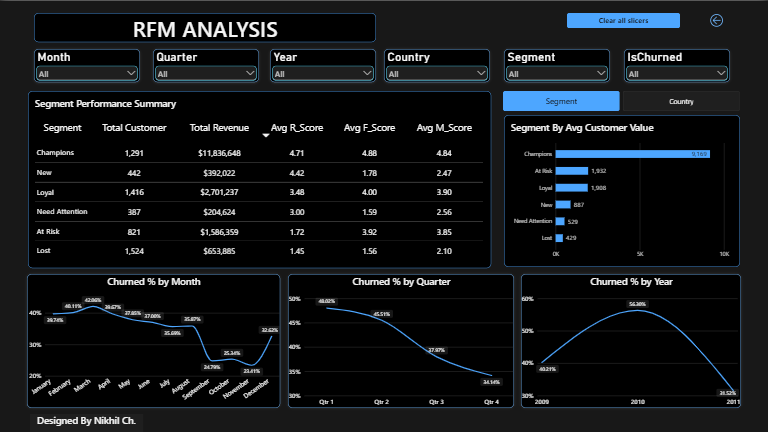

What the dashboard file says about the page in this screenshot:
{"tool":"powerbi","page":{"name":"RFM Analysis","canvas":[1920,1080],"ordinal":1},"visuals":[{"type":"slicer","fields":{"Values":["Sheet1.InvoiceDate.Variation.Date Hierarchy.Month"]},"box":[85,120,265,82.5],"z":0,"group":"g3"},{"type":"pivotTable","title":"Segment Performance Summary","fields":{"Rows":["Sheet1.Segment"],"Values":["Sheet1.Total Customer","Sheet1.Total Revenue","Avg(Sheet1.R_Score)","Avg(Sheet1.F_Score)","Avg(Sheet1.M_Score)"]},"box":[69.4,225,1157.5,442.5],"z":0,"group":"g2"},{"type":"lineChart","fields":{"Category":["Sheet1.InvoiceDate.Variation.Date Hierarchy.Month"],"Y":["Sheet1.Churned %"]},"box":[67.5,682.5,632.5,335],"z":0,"group":"g1"},{"type":"slicer","fields":{"Values":["Sheet1.InvoiceDate.Variation.Date Hierarchy.Quarter"]},"box":[382.5,120,265,82.5],"z":1000,"group":"g3"},{"type":"barChart","title":"Segment By Avg Customer Value","fields":{"Category":["Sheet1.Segment"],"Y":["Sheet1.Avg Customer Value"]},"box":[1259.4,285,590,380],"z":1000,"group":"g2"},{"type":"group","id":"g1","title":"Revenue","box":[67.5,682.5,1785,335],"z":1000},{"type":"lineChart","fields":{"Category":["Sheet1.InvoiceDate.Variation.Date Hierarchy.Quarter"],"Y":["Sheet1.Churned %"]},"box":[720,682.5,565,335],"z":1000,"group":"g1"},{"type":"slicer","fields":{"Values":["Sheet1.InvoiceDate.Variation.Date Hierarchy.Year"]},"box":[675,120,265,82.5],"z":2000,"group":"g3"},{"type":"lineChart","fields":{"Category":["Sheet1.InvoiceDate.Variation.Date Hierarchy.Year"],"Y":["Sheet1.Churned %"]},"box":[1302.5,682.5,550,335],"z":2000,"group":"g1"},{"type":"textbox","box":[75,1032.5,282.5,47.5],"z":2000},{"type":"slicer","fields":{"Values":["Sheet1.Country"]},"box":[960,120,265,82.5],"z":3000,"group":"g3"},{"type":"slicer","fields":{"Values":["Sheet1.Segment"]},"box":[1260,120,265,82.5],"z":4000,"group":"g3"},{"type":"group","id":"g2","title":"Segment","box":[69.4,225,1780,442.5],"z":4000},{"type":"slicer","fields":{"Values":["Sheet1.IsChurned"]},"box":[1560,120,265,82.5],"z":5000,"group":"g3"},{"type":"bookmarkNavigator","box":[1257.5,225,592.5,50],"z":5000},{"type":"actionButton","box":[1417.5,30,282.5,37.5],"z":6000},{"type":"actionButton","box":[1700,15,182.5,67.5],"z":7000},{"type":"group","id":"g3","title":"Group 1","box":[85,120,1740,82.5],"z":8000},{"type":"textbox","title":"RFM ANALYSIS","box":[85,30,855,72.5],"z":9000}]}

Visuals, with their boxes in screenshot pixels (x1, y1, x2, y2), scaled from the page's 1920x1080 canvas onto the 768x432 screenshot:
slicer - Sheet1.InvoiceDate.Variation.Date Hierarchy.Month: 34:48:140:81
"Segment Performance Summary" pivotTable: 28:90:491:267
lineChart - Sheet1.InvoiceDate.Variation.Date Hierarchy.Month x Sheet1.Churned %: 27:273:280:407
slicer - Sheet1.InvoiceDate.Variation.Date Hierarchy.Quarter: 153:48:259:81
"Segment By Avg Customer Value" barChart: 504:114:740:266
"Revenue" group: 27:273:741:407
lineChart - Sheet1.InvoiceDate.Variation.Date Hierarchy.Quarter x Sheet1.Churned %: 288:273:514:407
slicer - Sheet1.InvoiceDate.Variation.Date Hierarchy.Year: 270:48:376:81
lineChart - Sheet1.InvoiceDate.Variation.Date Hierarchy.Year x Sheet1.Churned %: 521:273:741:407
textbox: 30:413:143:431
slicer - Sheet1.Country: 384:48:490:81
slicer - Sheet1.Segment: 504:48:610:81
"Segment" group: 28:90:740:267
slicer - Sheet1.IsChurned: 624:48:730:81
bookmarkNavigator: 503:90:740:110
actionButton: 567:12:680:27
actionButton: 680:6:753:33
"Group 1" group: 34:48:730:81
"RFM ANALYSIS" textbox: 34:12:376:41
